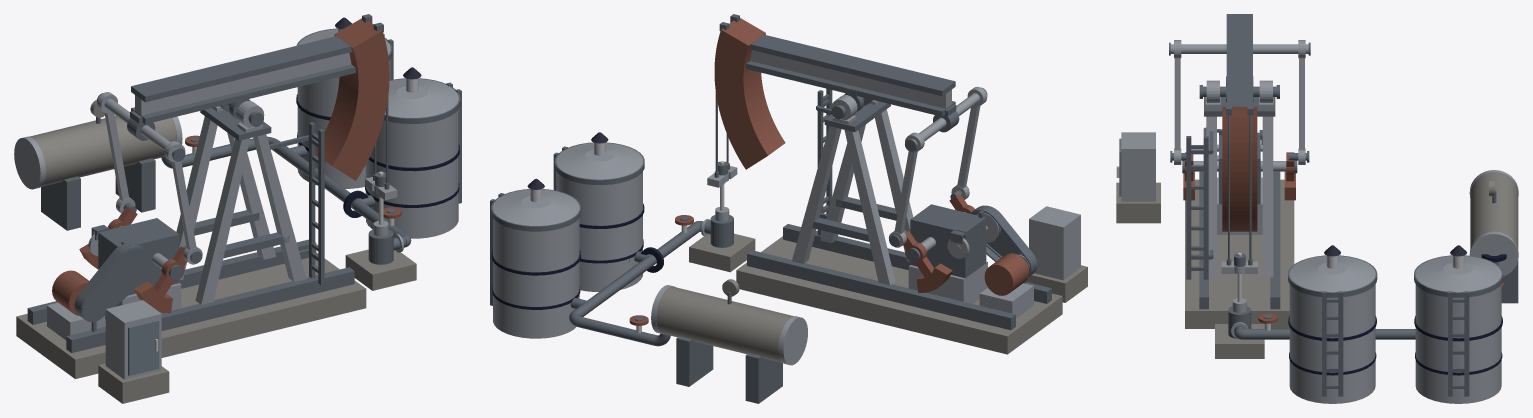
File: oil_well_lvl2.glb
3 renders of one model, left to right at view 1: azimuth 30°, elevation 25°; view 2: azimuth 150°, elevation 25°; view 3: azimuth 270°, elevation 25°, orthographic. The views are drawn at different scales.
Visible parts, largest first — view 1: oil_well; view 2: oil_well; view 3: oil_well.
Boxes of the visible parts, bbox=[...] form: oil_well: bbox=[14, 14, 461, 403]; oil_well: bbox=[490, 14, 1087, 403]; oil_well: bbox=[1116, 14, 1518, 403].
Size of the model in its own units: 1 by 0.5342 by 0.8182.
